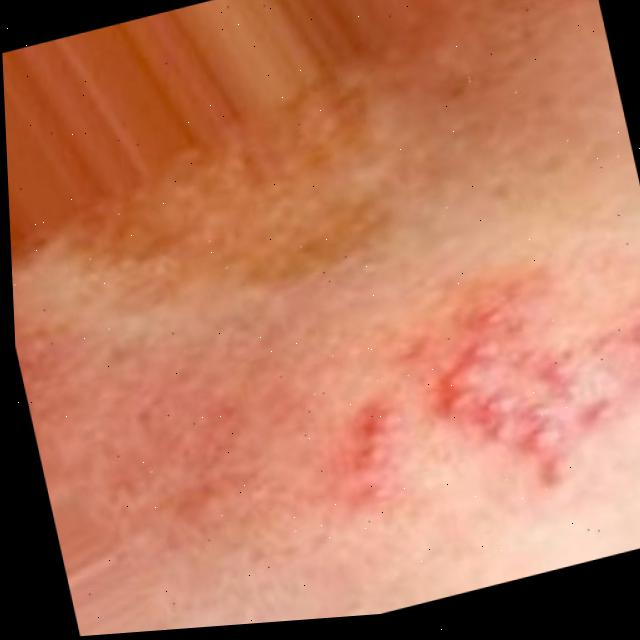Shingles: (319, 255, 640, 525)
